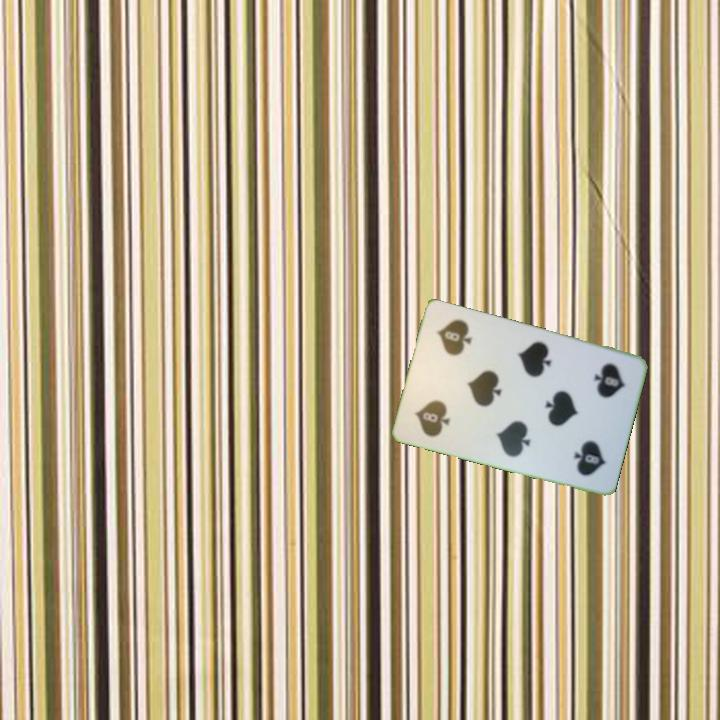s_8.png: (402, 368, 474, 447), (566, 349, 638, 427)
